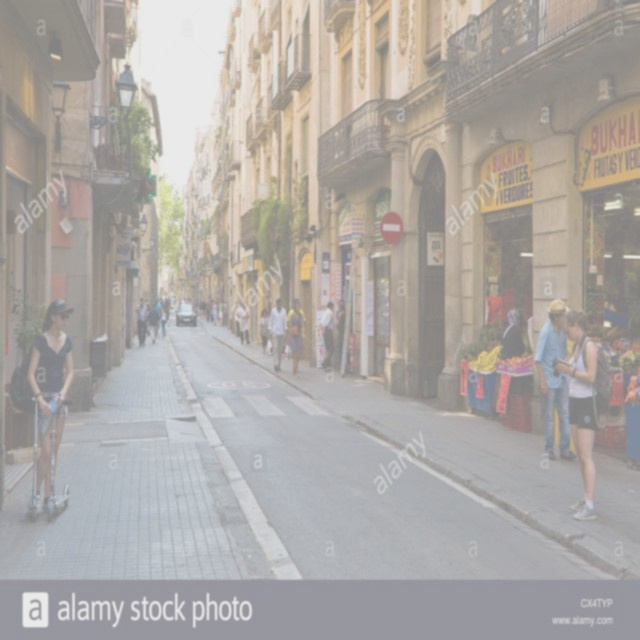pessoa: (9, 295, 77, 517), (550, 306, 613, 522), (532, 298, 579, 462), (284, 299, 306, 380), (267, 296, 289, 375), (500, 308, 526, 361), (318, 301, 336, 374), (286, 298, 307, 355), (334, 300, 348, 365), (134, 297, 148, 348), (336, 300, 346, 370), (258, 308, 271, 356), (238, 300, 251, 346), (147, 302, 161, 344), (195, 294, 212, 322), (164, 296, 180, 319), (234, 300, 242, 338), (154, 299, 161, 338), (159, 303, 167, 337), (221, 298, 229, 328), (144, 298, 150, 336), (233, 301, 240, 333), (179, 296, 195, 308), (211, 300, 218, 326), (219, 298, 224, 326)
